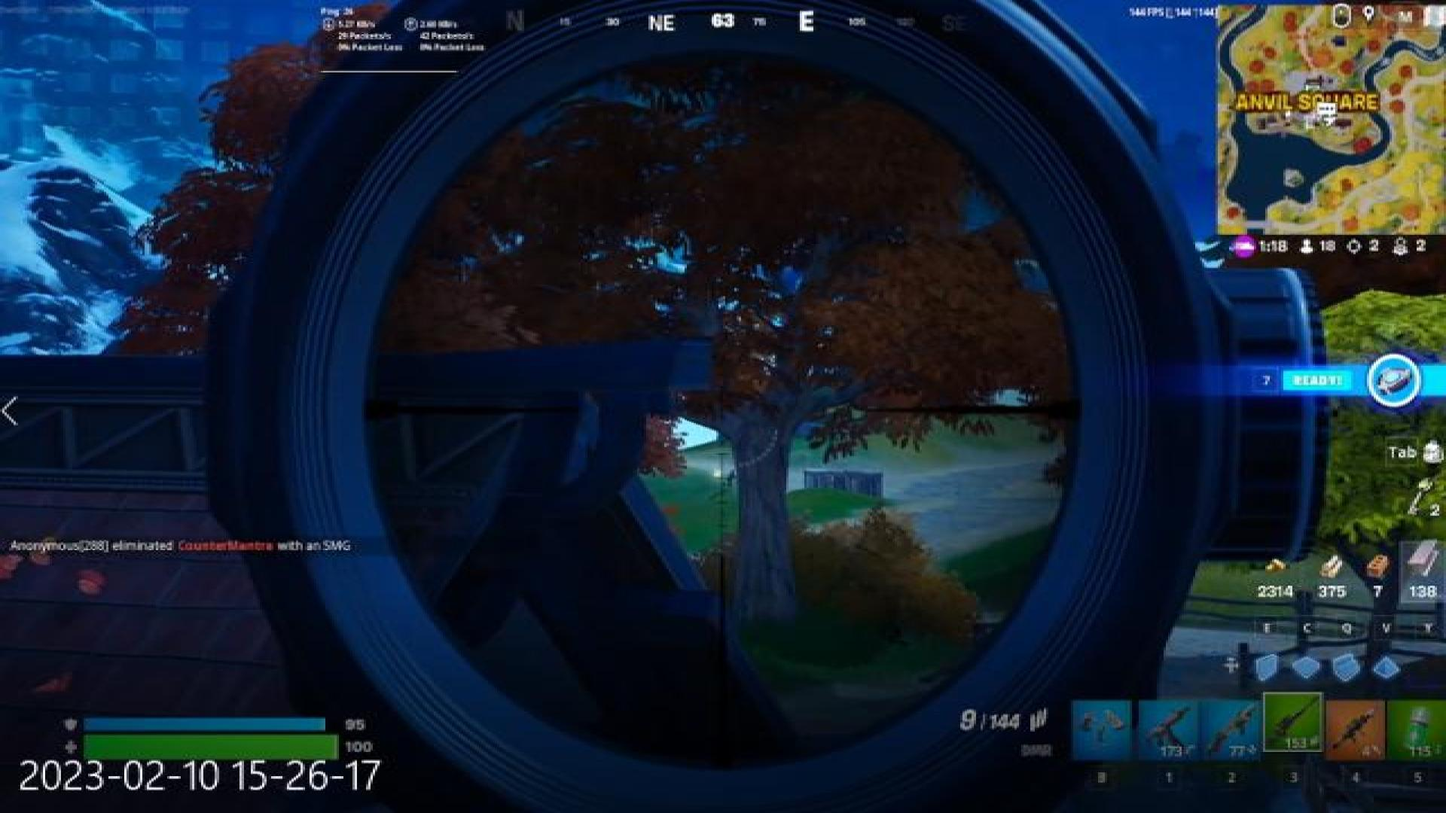player: (721, 466, 741, 499)
